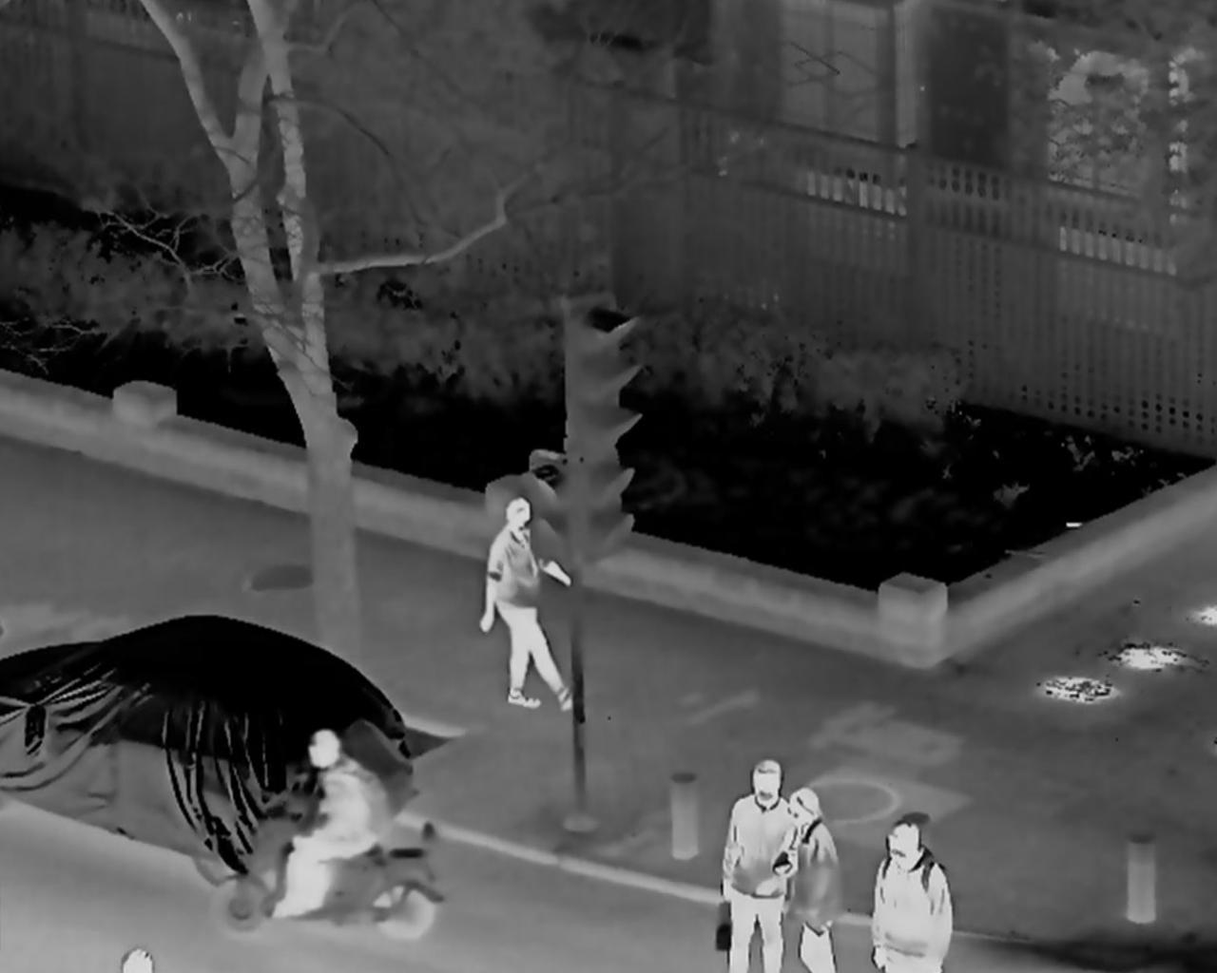person: (483, 502, 586, 715), (264, 733, 383, 914), (717, 759, 793, 973), (864, 823, 954, 973), (777, 791, 847, 969)
